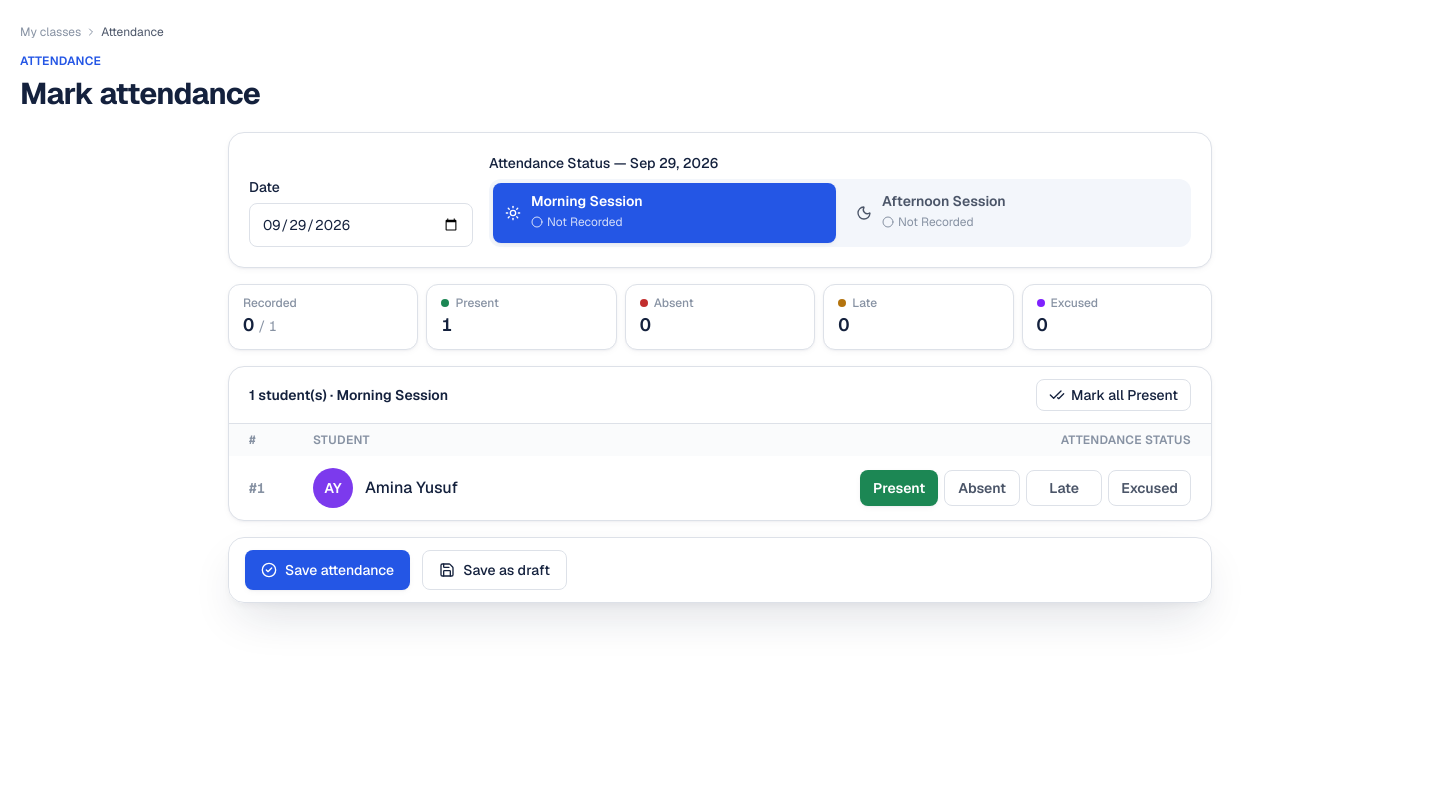
Test: AttendancePage — marking and saving › shows an inline error alert (not a toast) when the final save fails
The width and height of the screenshot is (1440, 810).
Expected: the text "Yusuf" is shown, top-left (416, 477), bottom-right (458, 498)
Click the button "Save attendance" at (328, 570), box top-left (245, 550), bottom-right (410, 590)
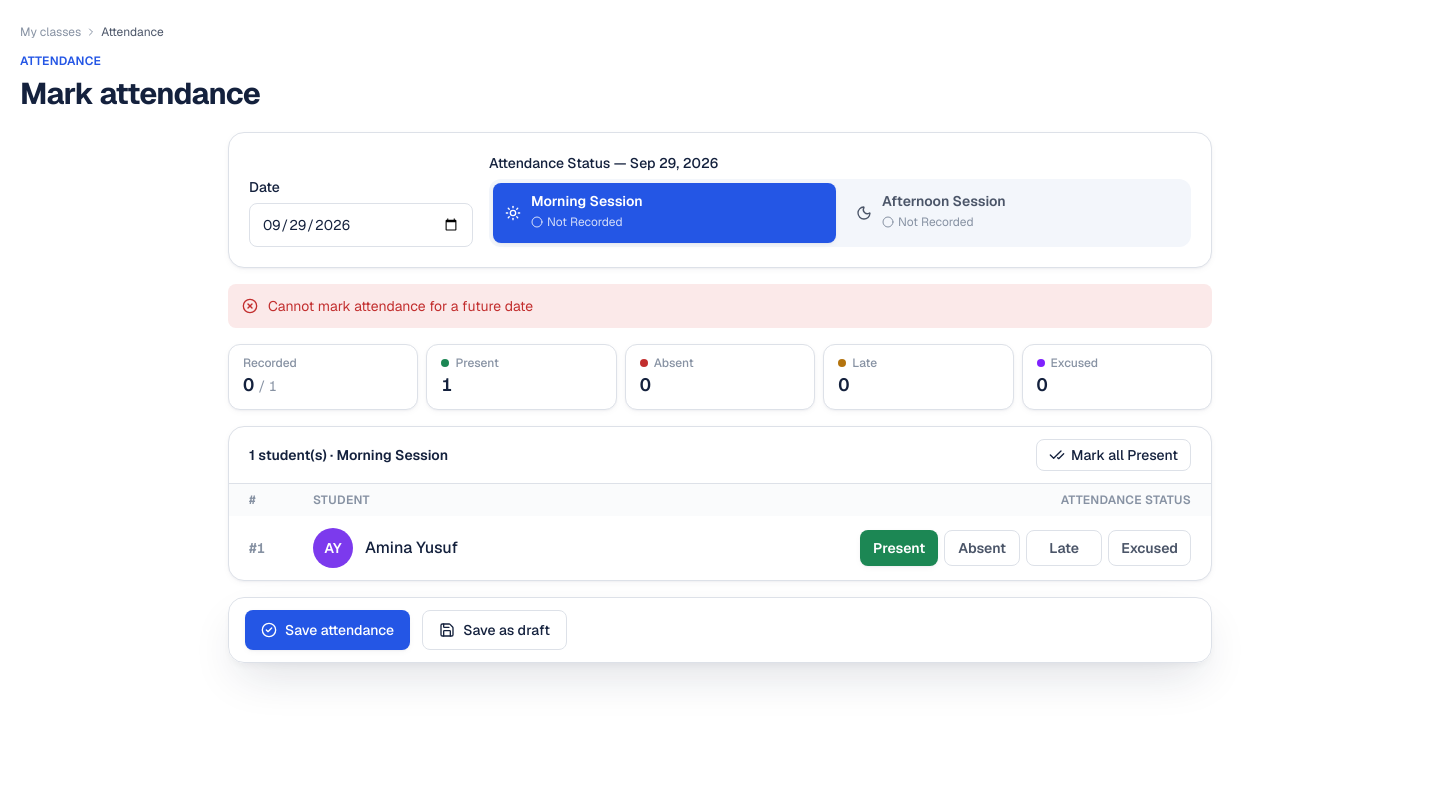
Now the text "Cannot mark attendance for a future date" is shown, box top-left (268, 296), bottom-right (533, 316)
